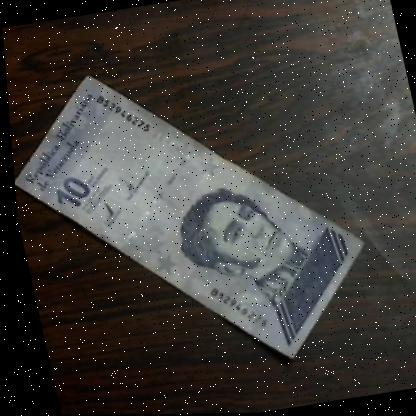vef_front: (3, 38, 384, 397)
